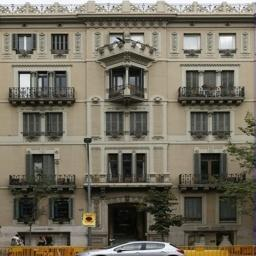building: (0, 4, 256, 245)
